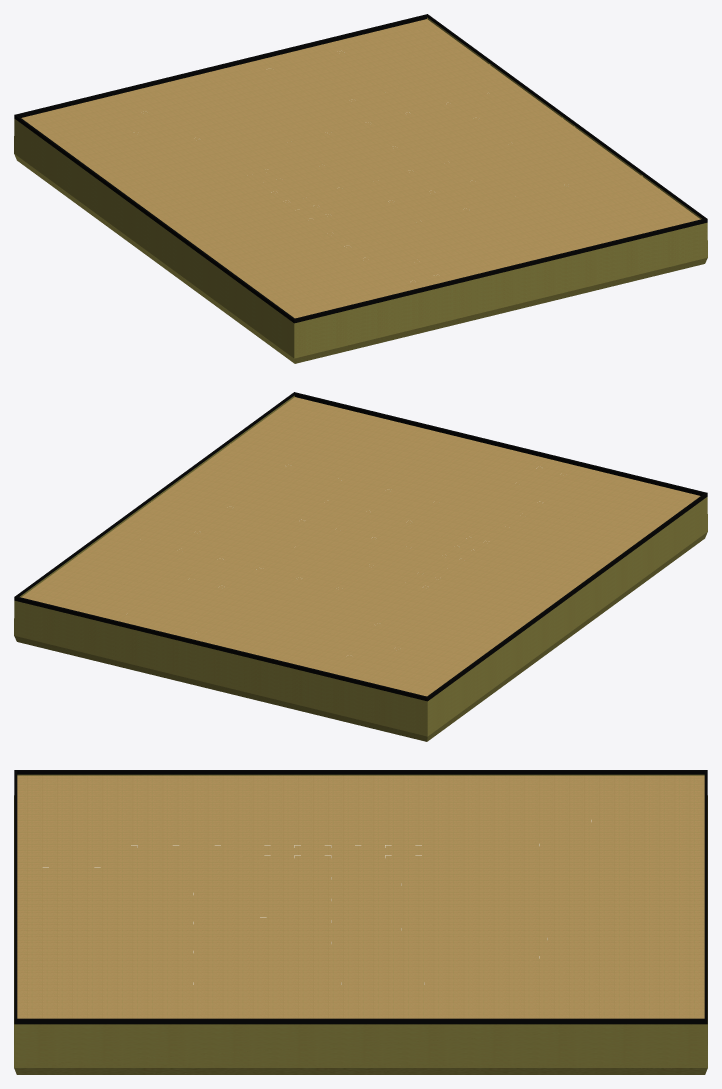
The model's file is backroom.glb.
3 views of the same model, one above another, from view 1: azimuth 30°, elevation 25°; view 2: azimuth 150°, elevation 25°; view 3: azimuth 270°, elevation 25° (orthographic). The views are drawn at different scales.
Parts seen in each view (by area): view 1: Backroom; view 2: Backroom; view 3: Backroom.
Part boxes in pixels (<box>): Backroom: <box>14,14,707,363</box>; Backroom: <box>14,392,707,741</box>; Backroom: <box>14,770,707,1074</box>.
Size of the model in its own units: 46.9 by 4.91 by 55.01.
Materials: 6 (5 with a texture image).
